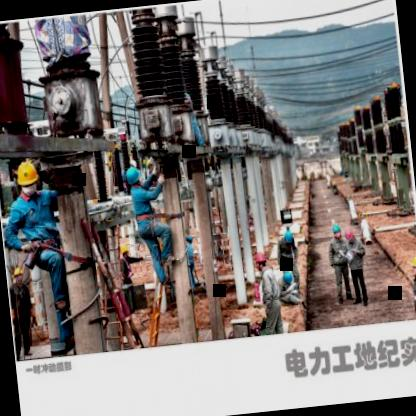helmet: (12, 155, 43, 203), (123, 160, 144, 193), (248, 244, 270, 275), (402, 249, 416, 282), (280, 266, 298, 288), (280, 226, 298, 248), (342, 226, 357, 248), (328, 219, 342, 241), (117, 242, 131, 262)
